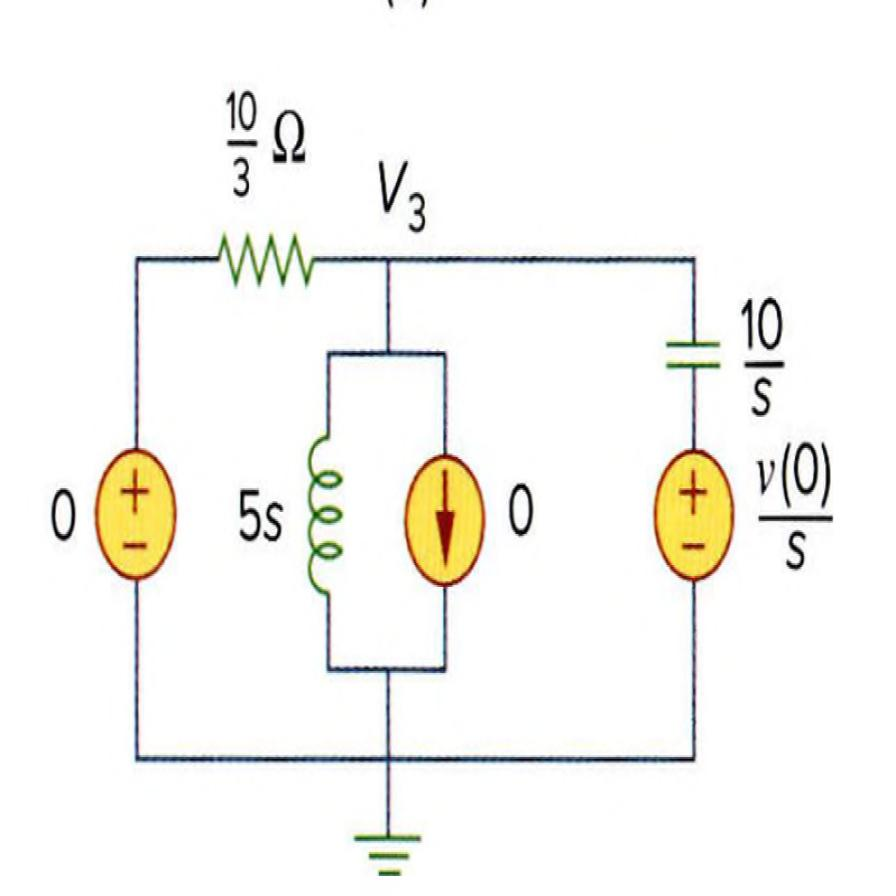I3: (396, 442, 484, 605)
L2: (298, 417, 349, 615)
R1: (202, 208, 328, 313)
V1: (89, 416, 182, 591), (646, 439, 737, 597)
